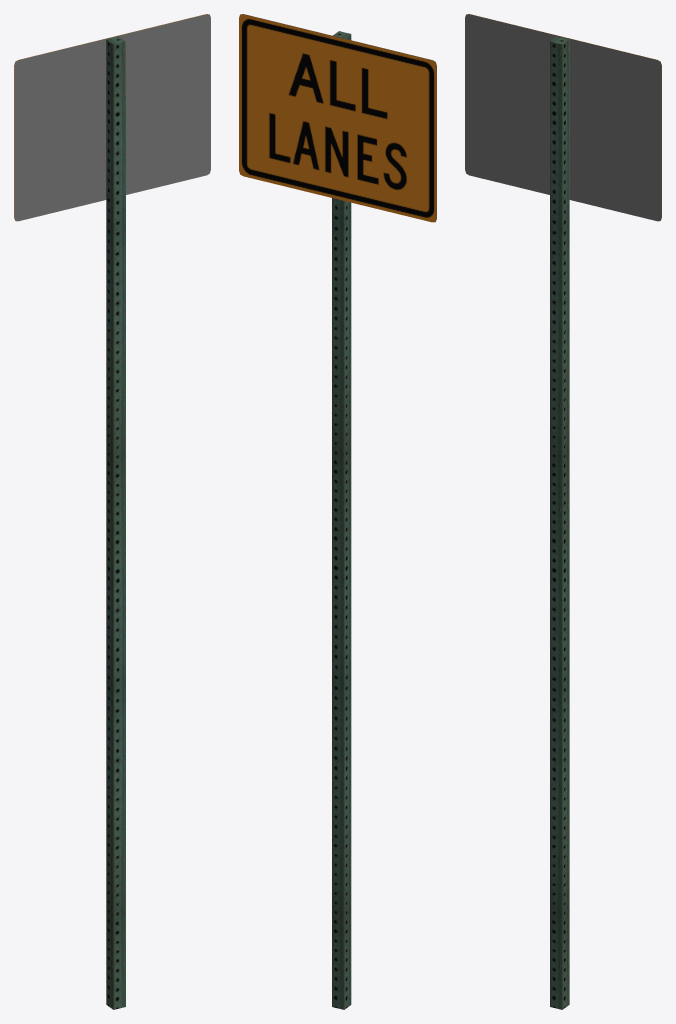
File: GSDSign617-Small.FBX
The picture shows the model from 3 angles, left to right: view 1: azimuth 30°, elevation 25°; view 2: azimuth 150°, elevation 25°; view 3: azimuth 330°, elevation 25°; orthographic projection.
Visible parts, largest first — view 1: GSDSign618-Small; view 2: GSDSign618-Small; view 3: GSDSign618-Small.
Part boxes in pixels (<box>): GSDSign618-Small: <box>14,14,210,1009</box>; GSDSign618-Small: <box>239,14,436,1009</box>; GSDSign618-Small: <box>465,14,661,1009</box>.
Size of the model in its own units: 0.479 by 2.25 by 0.031.
Materials: 1 (1 with a texture image).
